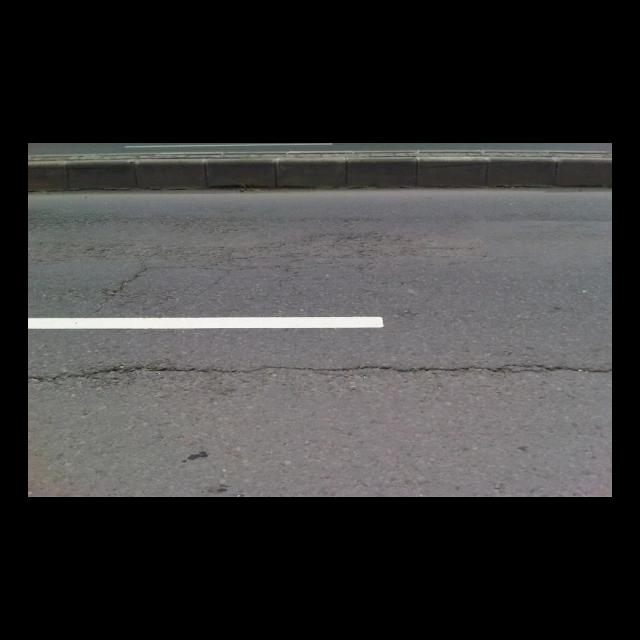retak_kulit_buaya: (28, 210, 417, 282)
retak_memanjang: (28, 336, 612, 400), (88, 260, 153, 315)
